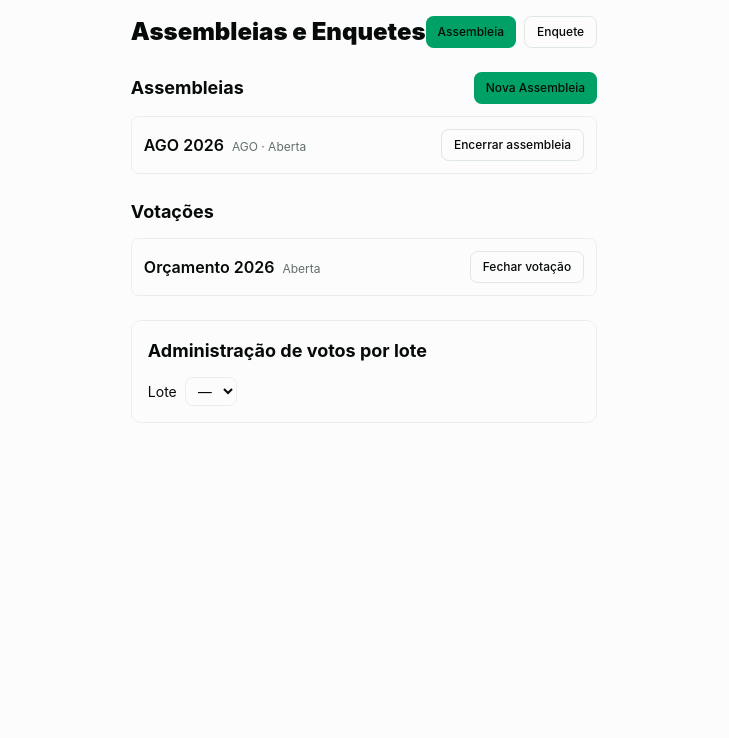
it: AssemblyVotingPage › clears both forms after a successful creation
What coordinates should you click on to do the following:
click the button "Nova Assembleia"
I would click on:
 (536, 88)
Its box is [474,72,597,104].
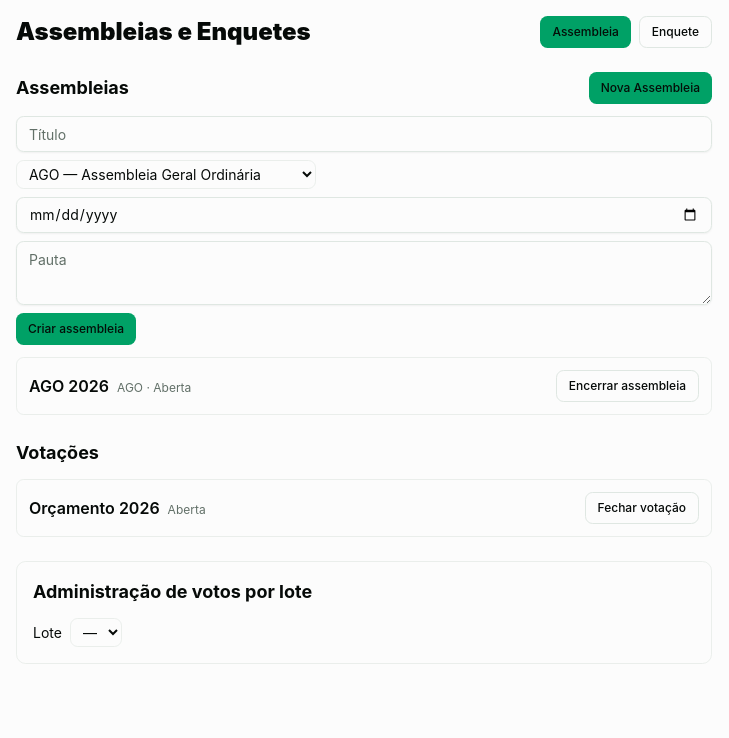
What coordinates should you click on to do the following:
click the button "Criar assembleia"
I would click on:
 (76, 329)
Its box is [16,313,136,345].
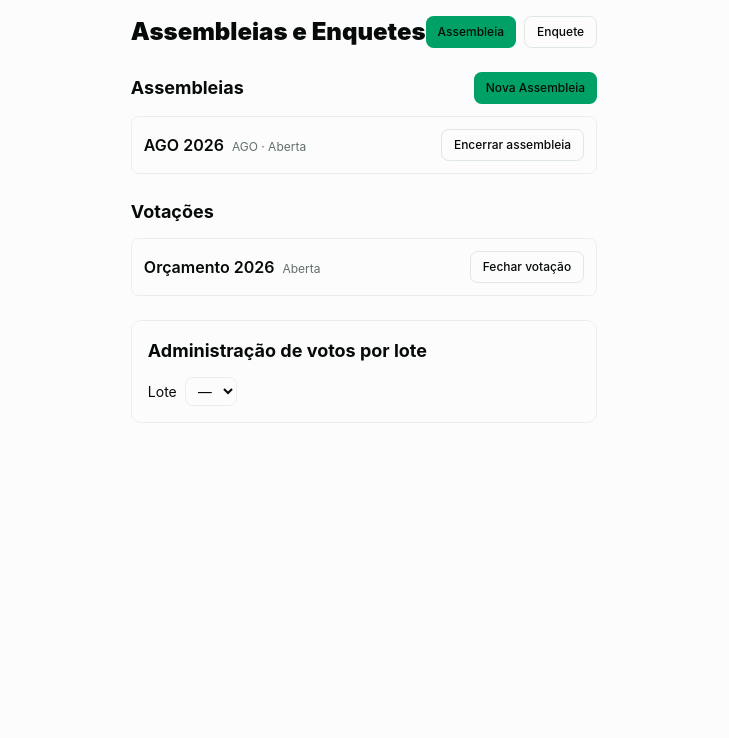
Check: the button "Criar assembleia" is gone
What coordinates should you click on to do the following:
click the button "AGO 2026AGO · Aberta"
I would click on:
 (225, 145)
Its box is [144,133,306,157].
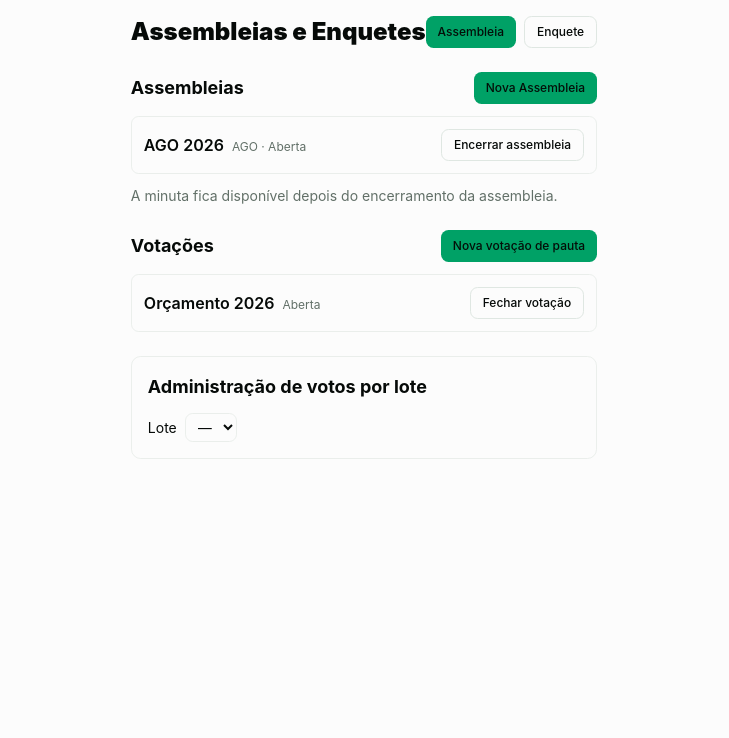
What coordinates should you click on to do the following:
click the button "Nova votação de pauta"
I would click on:
 (519, 246)
Its box is [441,230,597,262].
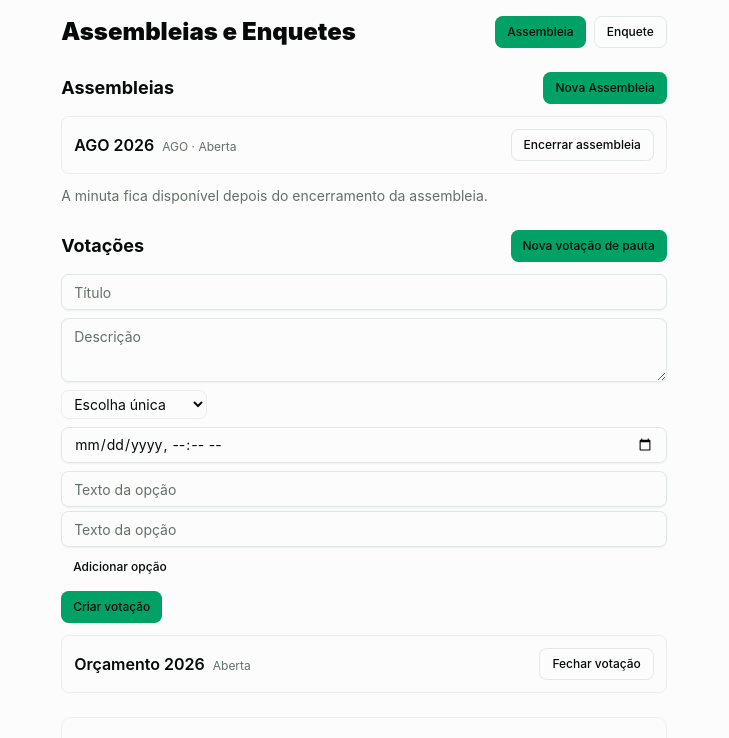
What coordinates should you click on to do the following:
click the button "Criar votação"
I would click on:
 (112, 607)
Its box is [61,591,162,623].
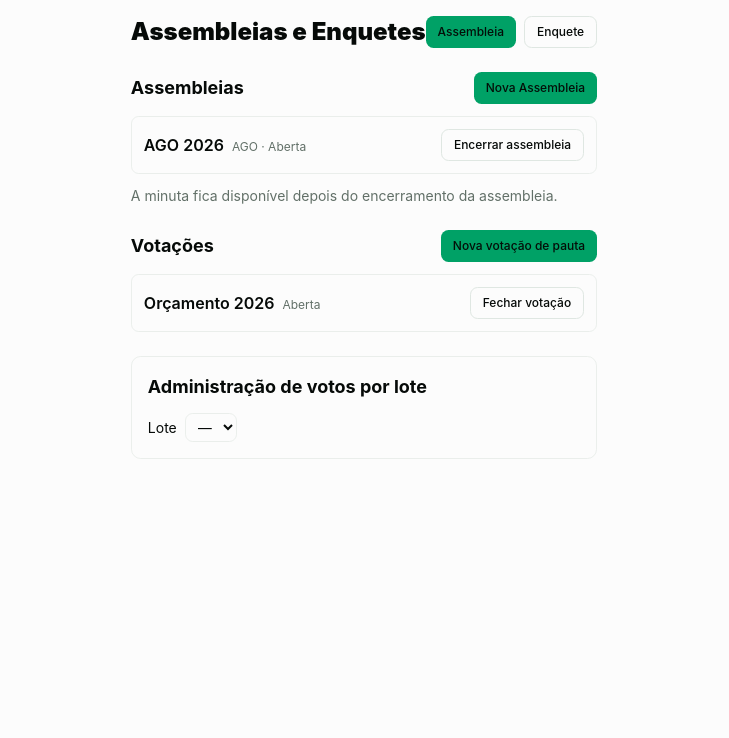
Check: the button "Criar votação" is gone
